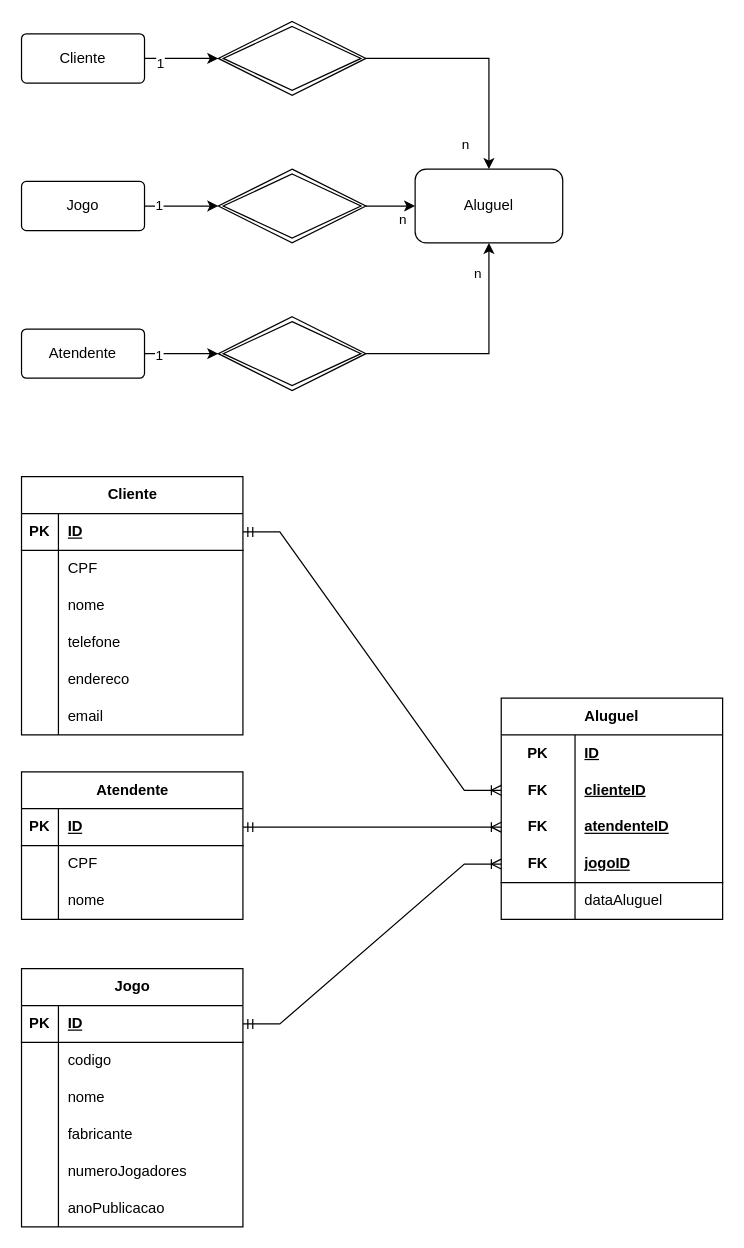
Image size: 744x1248. Some labels were removed from this diagram. Here are the shapes that lost their labels. From the top down, the box of each, then its label:
(217, 20, 366, 95): Faz um
(217, 168, 366, 243): Está em
(217, 315, 366, 391): Cadastra um
